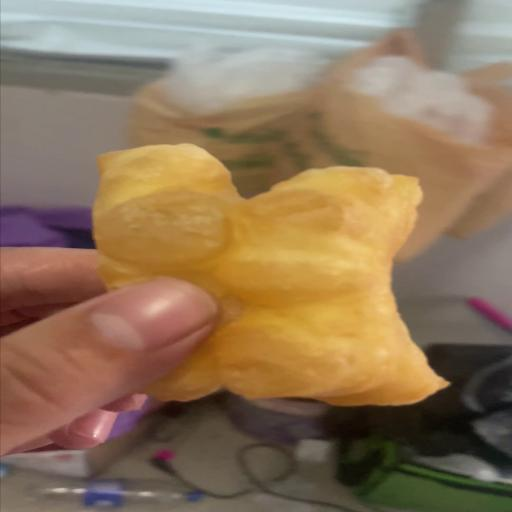street_golden_good: (94, 145, 440, 406)
